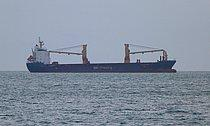Ship: (21, 36, 180, 77)
